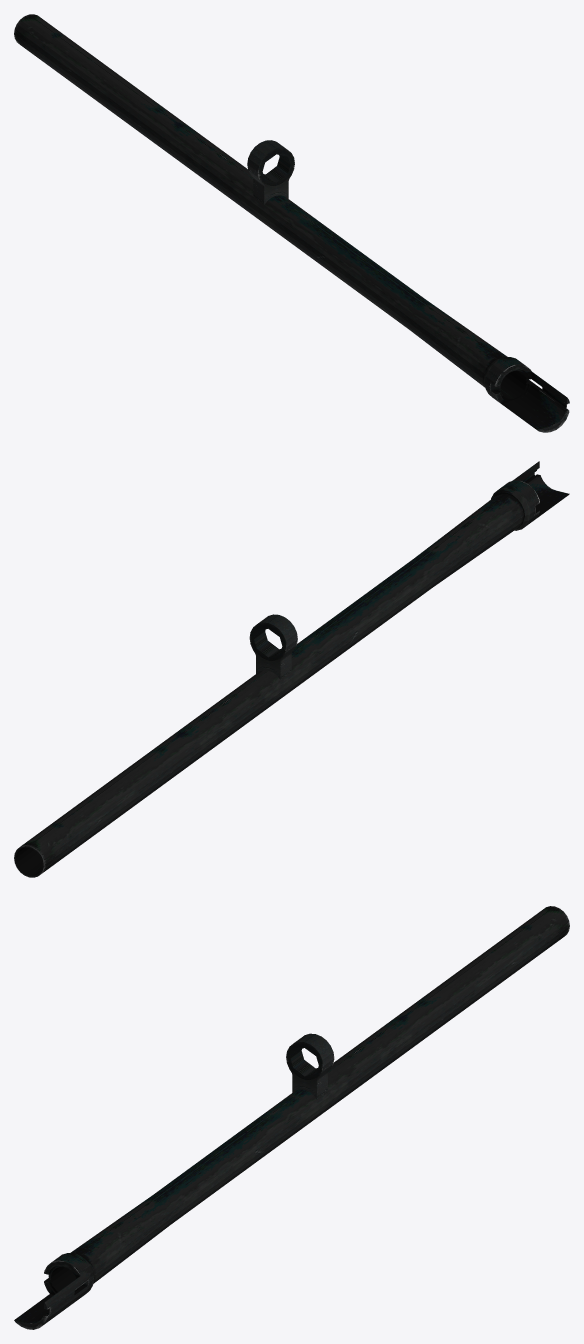
3 views of the same model, one above another, from view 1: azimuth 30°, elevation 25°; view 2: azimuth 150°, elevation 25°; view 3: azimuth 330°, elevation 25° (orthographic).
Parts seen in each view (by area): view 1: TW_560836fb4bdc2d773f8b4569_PZ_Import; view 2: TW_560836fb4bdc2d773f8b4569_PZ_Import; view 3: TW_560836fb4bdc2d773f8b4569_PZ_Import.
Boxes of the visible parts, box(x1,y1,x2,y2) form: TW_560836fb4bdc2d773f8b4569_PZ_Import: box(14, 14, 569, 432); TW_560836fb4bdc2d773f8b4569_PZ_Import: box(14, 461, 569, 877); TW_560836fb4bdc2d773f8b4569_PZ_Import: box(14, 906, 569, 1329).
Bounding box in the file's own units: 0.0167 × 0.3792 × 0.0334.
1 material, 1 textured.
